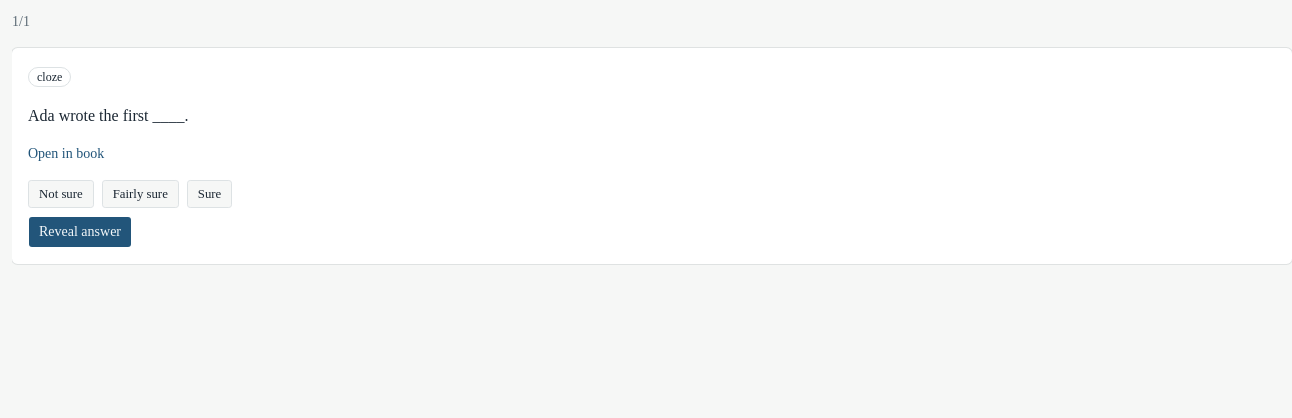
Test: ReviewScreen session flow (E2) › shows a submit error with a retry affordance and keeps the card
Expected: the text "Ada wrote the first ____." is shown, [28,107,188,124]
Click the button "Reveal answer".
click(80, 232)  # box [28,216,132,248]
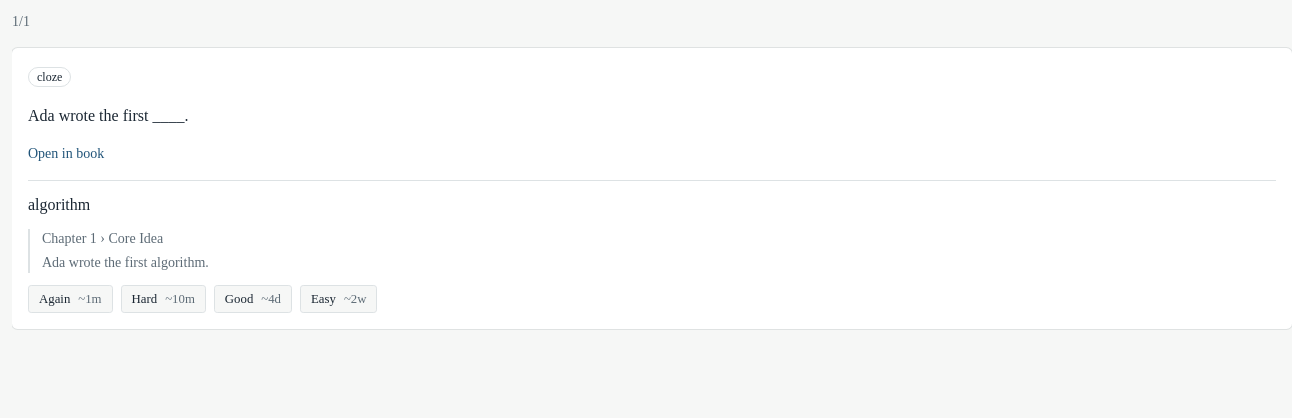
Click the button "Good ~4d".
click(253, 299)  # box [214,285,292,313]
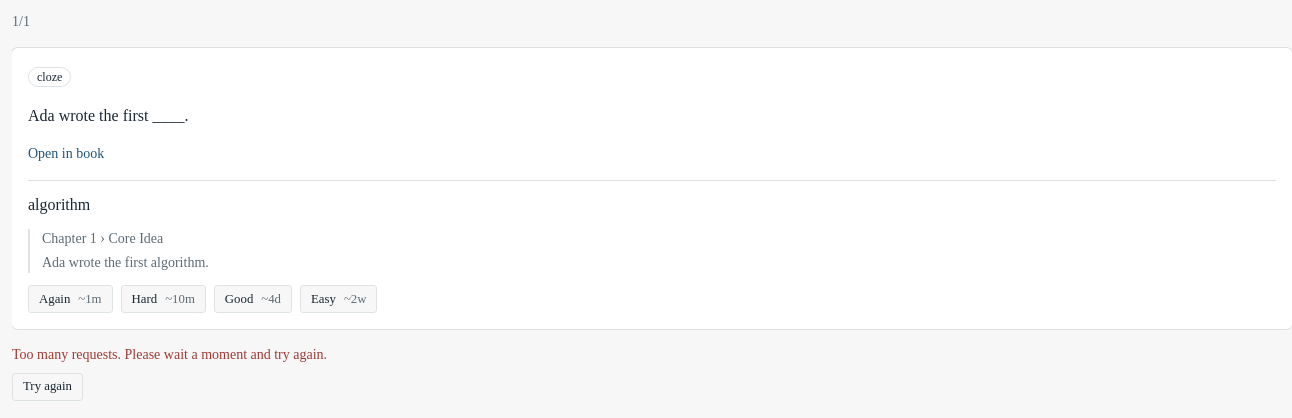
Expected: the text with test id "position" reads "1/1", [12,14,30,29]
Result: the text "algorithm" is shown at [28,196,90,213]
Result: the message shows "Too many requests." at [12,347,327,362]
# Dismissing the error via the retry affordance clears the banner.
Click the button "Try again".
click(48, 387)  # box [12,373,83,401]
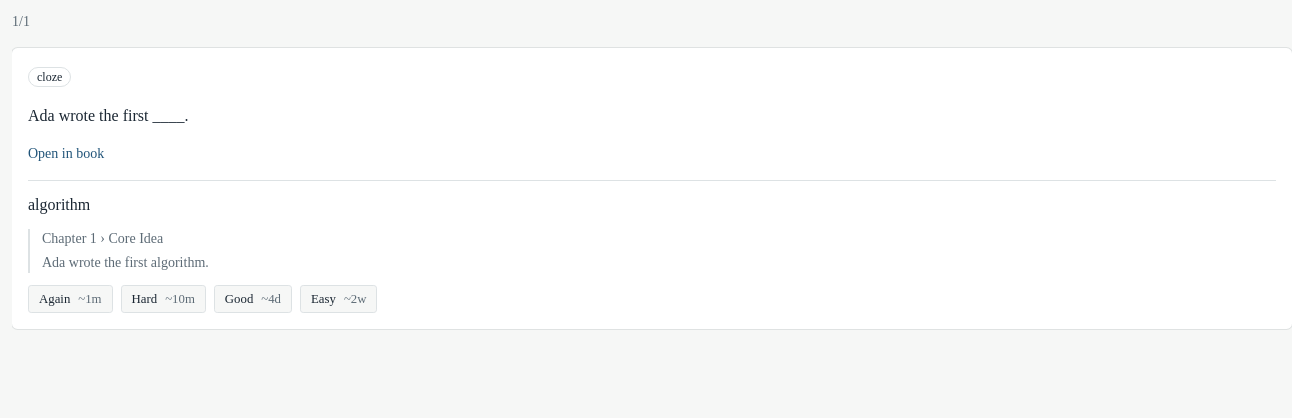
Result: the message "Too many requests. Please wait a moment and try again." is gone
